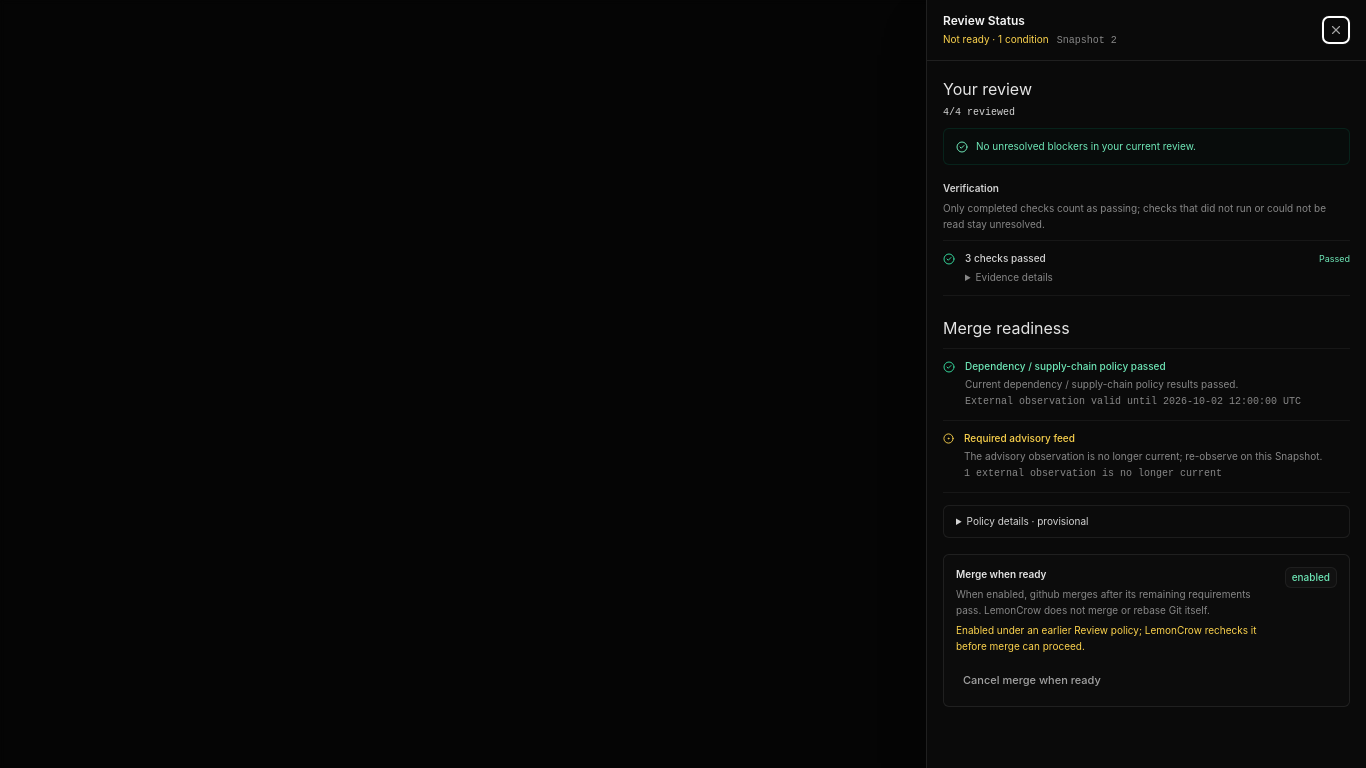
Test: ReviewReadinessSheet focus › names the policy generation and evidence freshness without new chrome
Click the heading "Policy details · provisional" at (1028, 521), box [967, 515, 1088, 527]
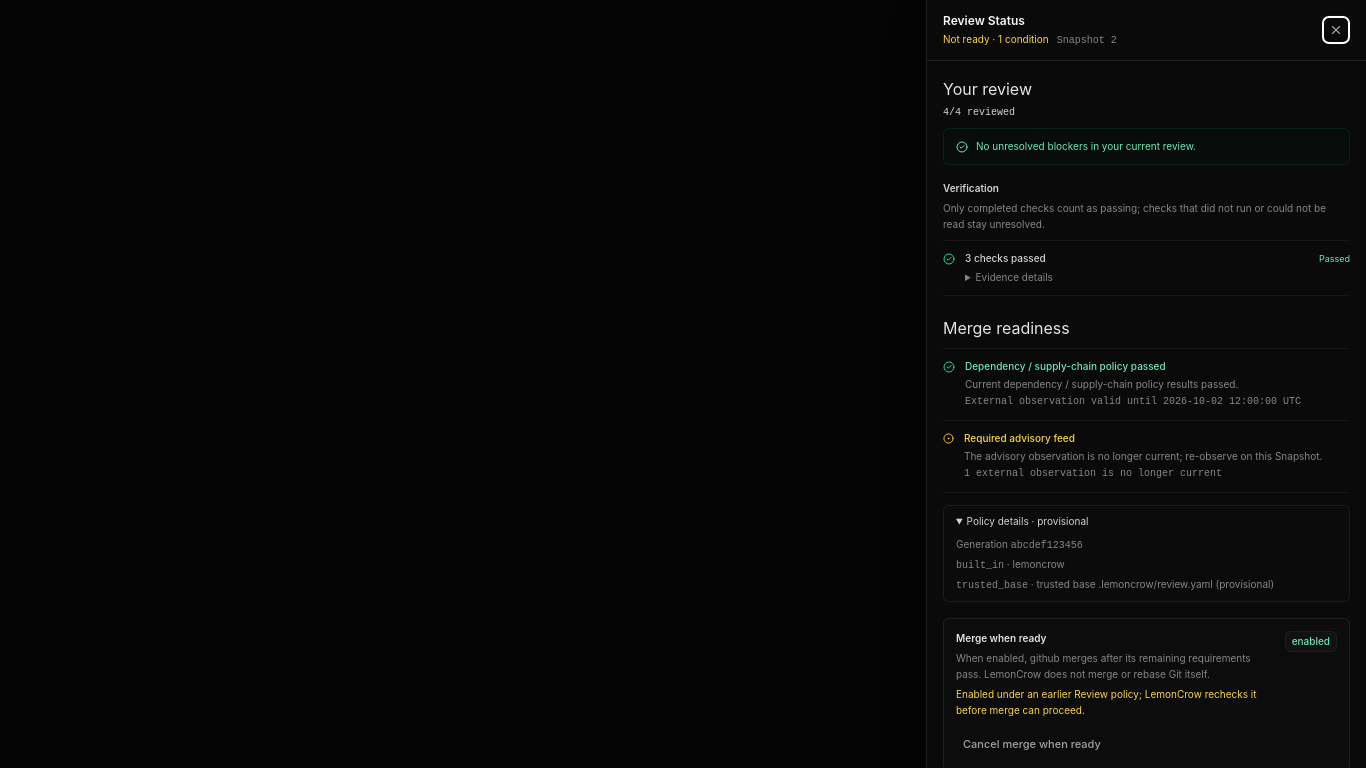
Expected: the text "External observation valid until 2026-10-02 12:00:00 UTC" is shown, [965, 394, 1350, 410]
Result: the element with test id "review-policy-details" shows "Generation abcdef123456" at [943, 505, 1350, 602]
Result: the element titled "policy:abcdef1234567890" is shown at [956, 538, 1274, 591]
